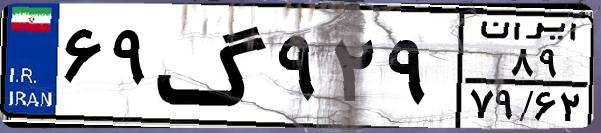2: (330, 28, 385, 110), (560, 70, 590, 125)
6: (57, 26, 110, 100), (535, 70, 560, 125)
7: (470, 70, 495, 125)
8: (508, 27, 537, 80)
9: (270, 28, 330, 110), (385, 28, 445, 110), (110, 28, 156, 98), (537, 27, 568, 80), (495, 70, 520, 125)
گ: (156, 12, 270, 120)
